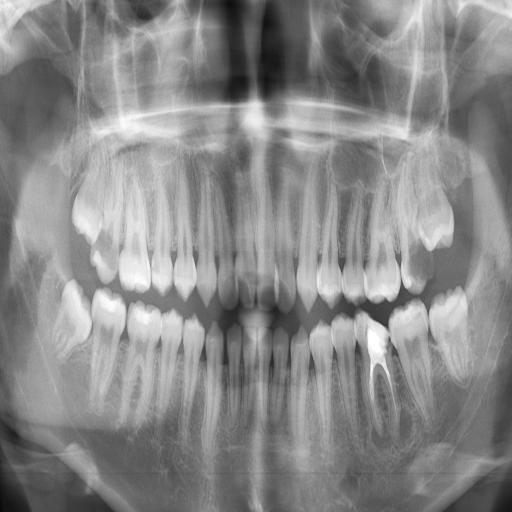Wisdom teeth: (429, 287, 471, 385), (54, 279, 91, 360), (417, 189, 453, 250), (72, 177, 101, 244)
